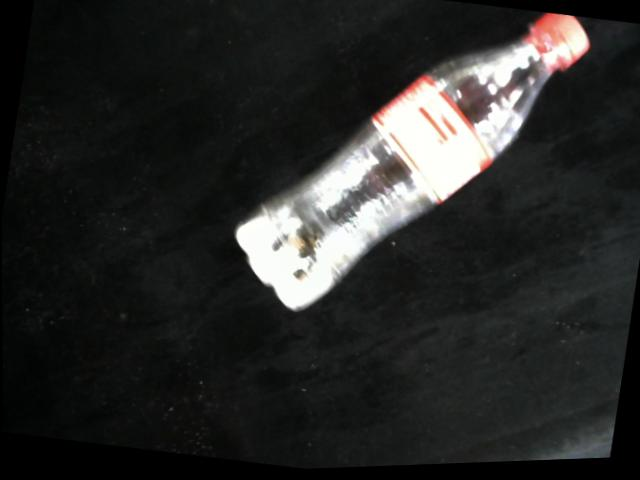bottle: (232, 17, 591, 317)
